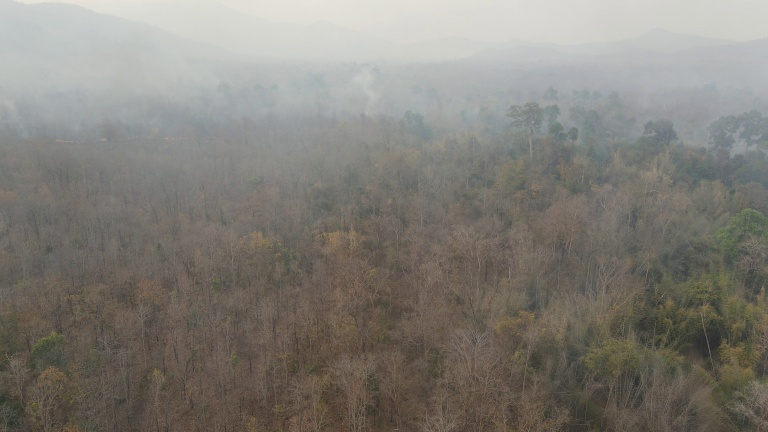fire: (25, 130, 205, 150)
smoke: (1, 1, 768, 146), (350, 62, 376, 121)
